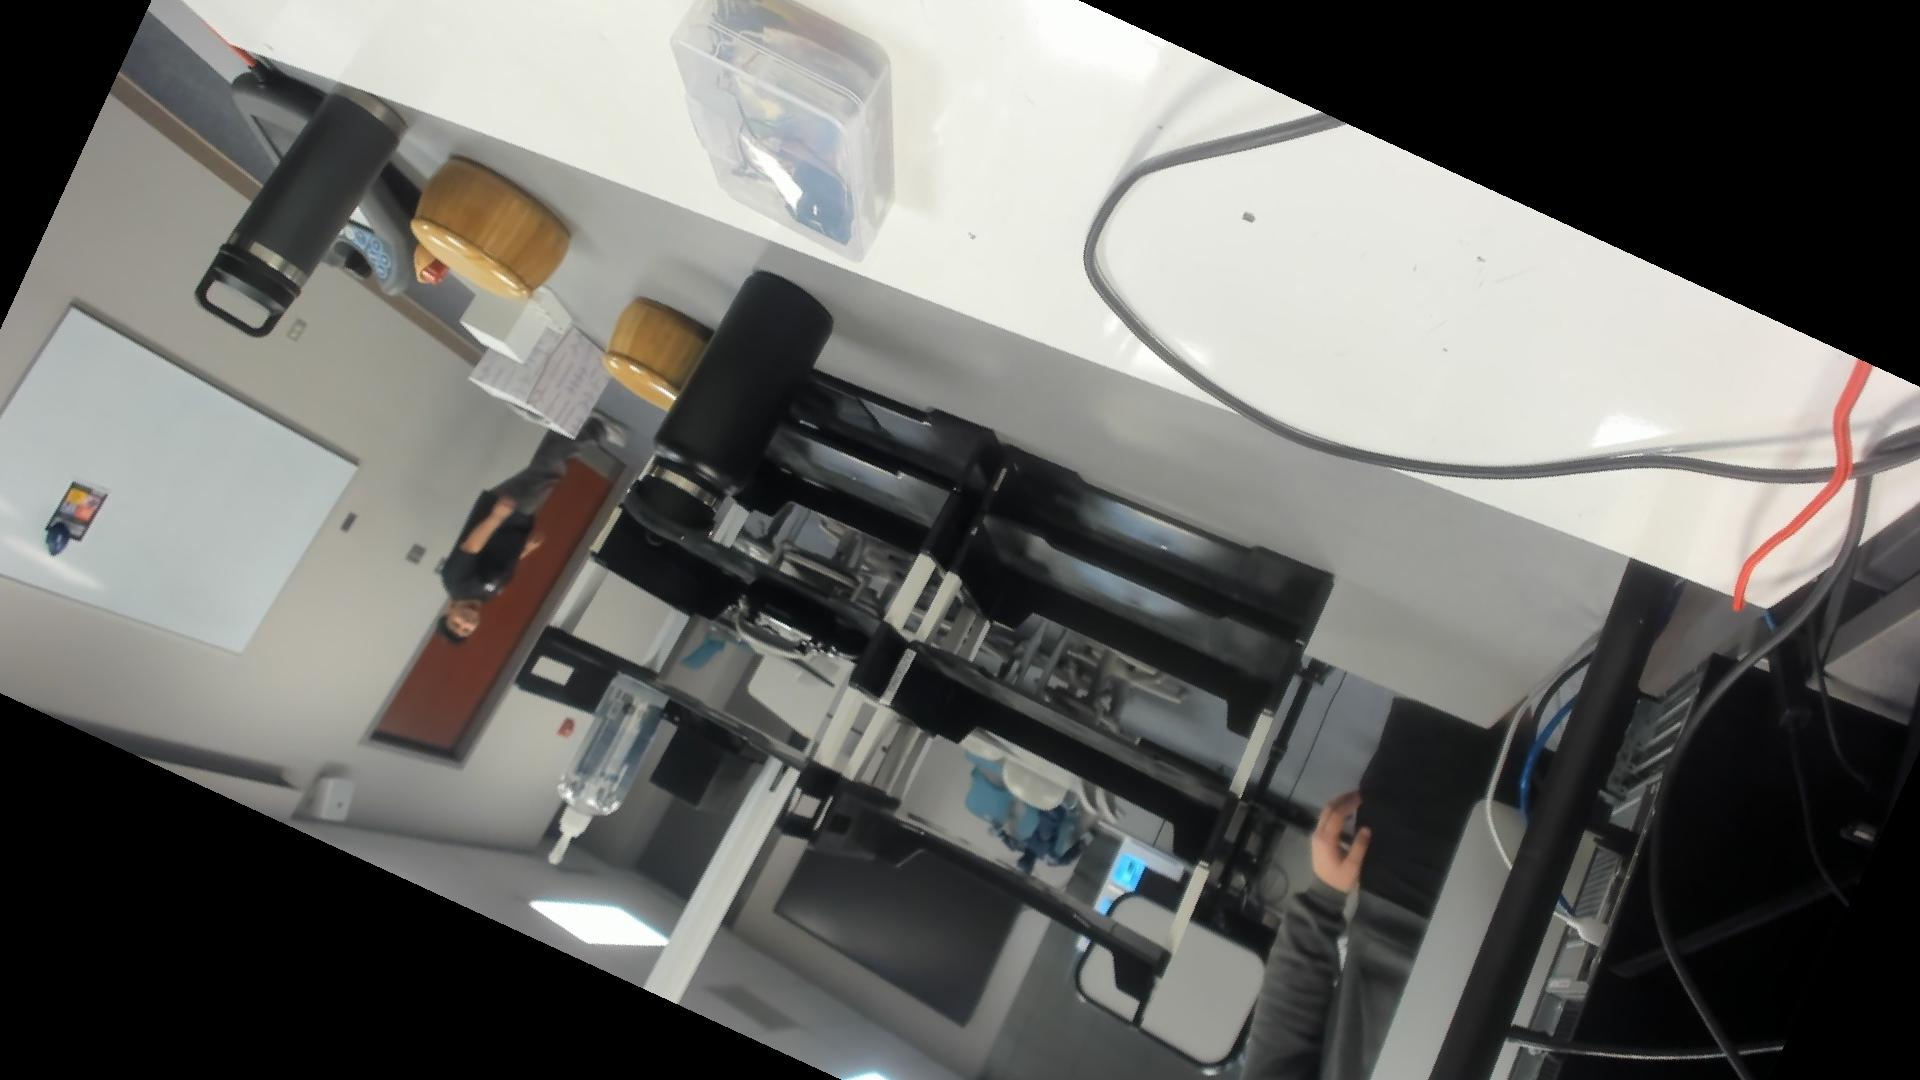black pallet: (644, 699, 773, 820)
white pallet: (454, 284, 580, 367)
